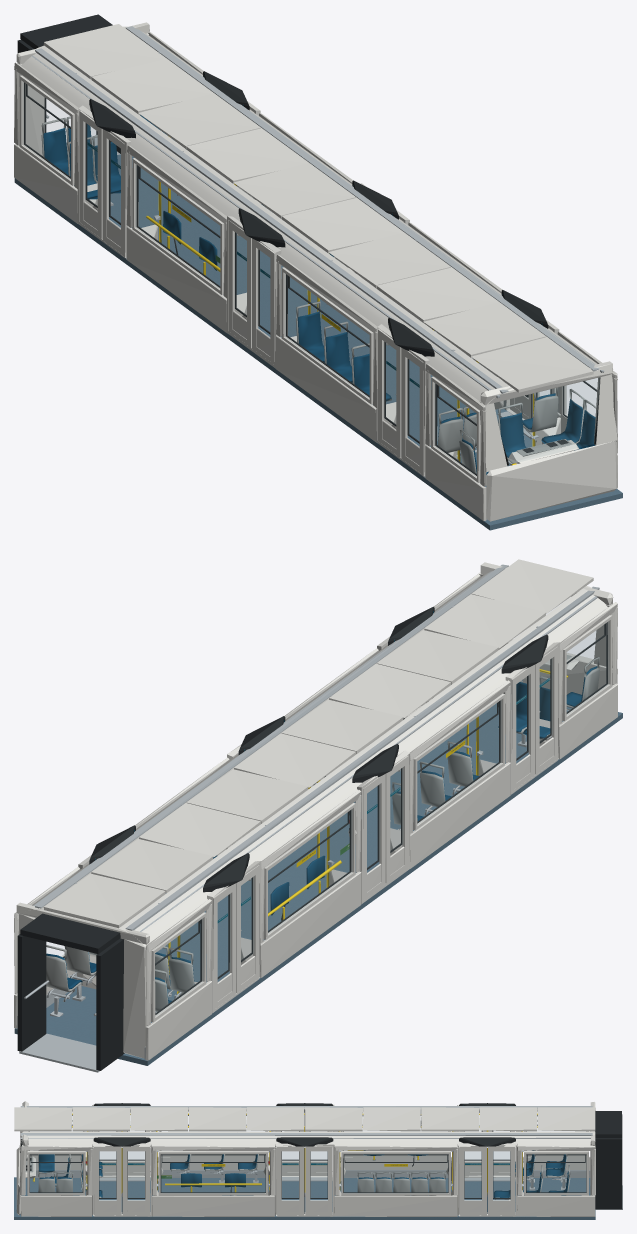
The model's file is mark-v-a-car-interior.lod0.glb.
3 views of the same model, one above another, from view 1: azimuth 30°, elevation 25°; view 2: azimuth 150°, elevation 25°; view 3: azimuth 270°, elevation 25° (orthographic). The views are drawn at different scales.
Parts seen in each view (by area): view 1: interior-batch-panel, interior-batch-glass, interior-batch-floor, interior-batch-rubber, interior-batch-metal, interior-batch-seat, interior-batch-shell, interior-batch-rail; view 2: interior-batch-panel, interior-batch-glass, interior-batch-rubber, interior-batch-floor, interior-batch-metal, interior-batch-shell, interior-batch-seat, interior-batch-rail; view 3: interior-batch-panel, interior-batch-glass, interior-batch-rubber, interior-batch-floor, interior-batch-metal, interior-batch-shell, interior-batch-seat, interior-batch-rail, interior-batch-information.
Boxes of the visible parts, left/top/right/bottom form: interior-batch-panel: left=14, top=22, right=617, bottom=521; interior-batch-glass: left=23, top=83, right=599, bottom=476; interior-batch-floor: left=14, top=154, right=622, bottom=530; interior-batch-rubber: left=17, top=14, right=603, bottom=475; interior-batch-metal: left=31, top=26, right=604, bottom=519; interior-batch-seat: left=43, top=115, right=595, bottom=474; interior-batch-shell: left=41, top=114, right=596, bottom=473; interior-batch-rail: left=146, top=136, right=535, bottom=465; interior-batch-panel: left=14, top=559, right=617, bottom=1060; interior-batch-glass: left=47, top=614, right=608, bottom=1015; interior-batch-rubber: left=17, top=606, right=607, bottom=1070; interior-batch-floor: left=14, top=703, right=622, bottom=1065; interior-batch-metal: left=17, top=564, right=599, bottom=1072; interior-batch-shell: left=46, top=655, right=599, bottom=1011; interior-batch-seat: left=46, top=666, right=597, bottom=1003; interior-batch-rail: left=168, top=669, right=568, bottom=995; interior-batch-panel: left=14, top=1101, right=595, bottom=1216; interior-batch-glass: left=21, top=1116, right=585, bottom=1198; interior-batch-rubber: left=20, top=1103, right=622, bottom=1213; interior-batch-floor: left=14, top=1177, right=595, bottom=1219; interior-batch-metal: left=20, top=1106, right=622, bottom=1216; interior-batch-shell: left=25, top=1120, right=570, bottom=1199; interior-batch-seat: left=39, top=1150, right=568, bottom=1197; interior-batch-rail: left=33, top=1113, right=537, bottom=1194; interior-batch-information: left=82, top=1105, right=511, bottom=1178.
Bounding box in the file's own units: 2.76 × 2.42 × 16.34.
10 materials, 3 textured.
